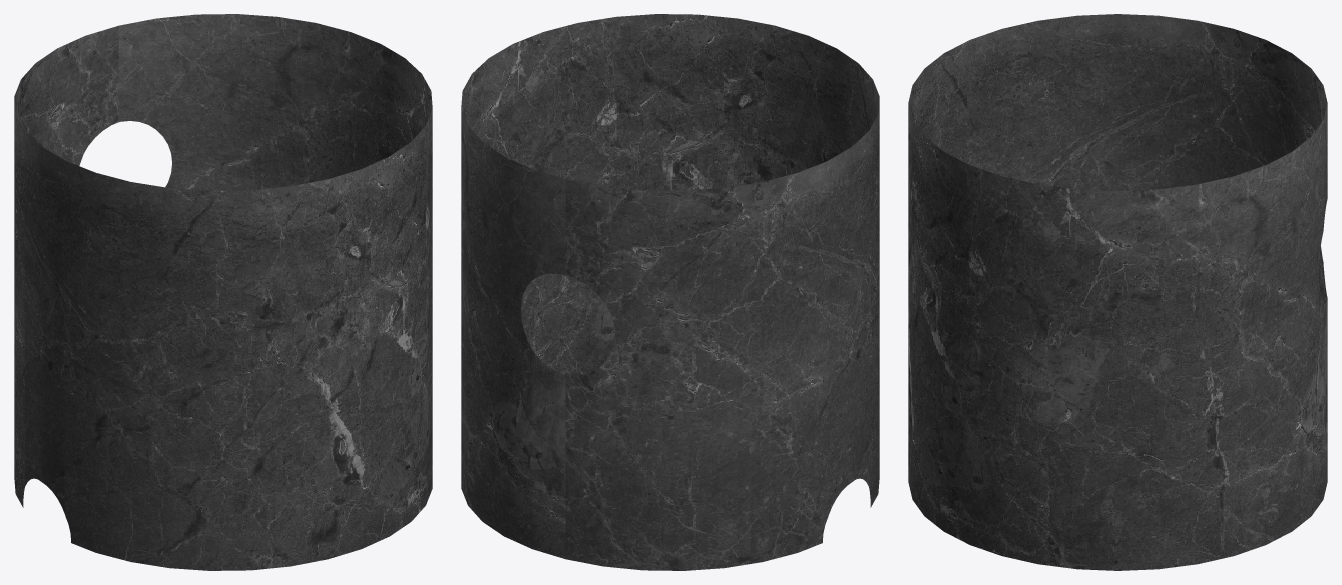
The model's file is cylinders.glb.
3 views of the same model, side by side, from view 1: azimuth 30°, elevation 25°; view 2: azimuth 150°, elevation 25°; view 3: azimuth 270°, elevation 25° (orthographic).
Visible parts, largest first — view 1: Cylinder.002; view 2: Cylinder.002; view 3: Cylinder.002.
Boxes of the visible parts, bbox=[...] form: Cylinder.002: bbox=[14, 14, 432, 570]; Cylinder.002: bbox=[461, 14, 879, 570]; Cylinder.002: bbox=[908, 14, 1327, 570].
Bounding box in the file's own units: 2 × 2 × 2.
Materials: 1 (1 with a texture image).
